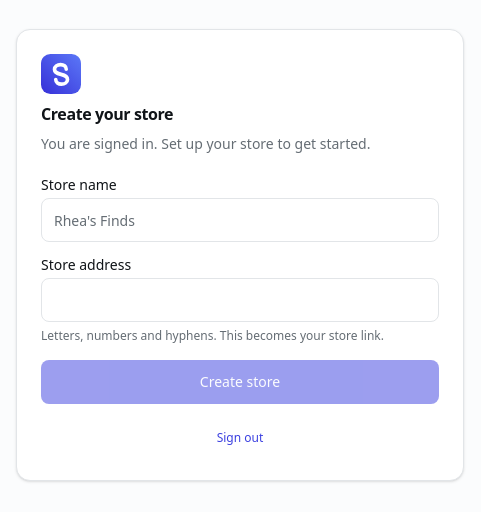
Test case: the store address field › a trailing space does not become an error mid-word
Note: Exactly the screenshot: one word, then the keyboard's space.
Type "phase " into the field labelled "Store address". click: (240,300)
box: [41,278,439,322]
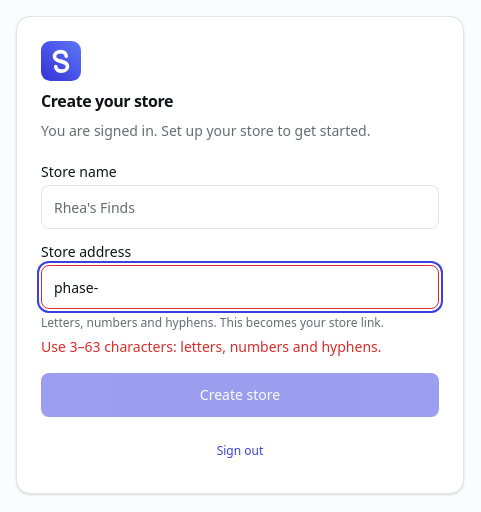
Expected: the field labelled "Store address" holds "phase-", [41,265,439,309]
